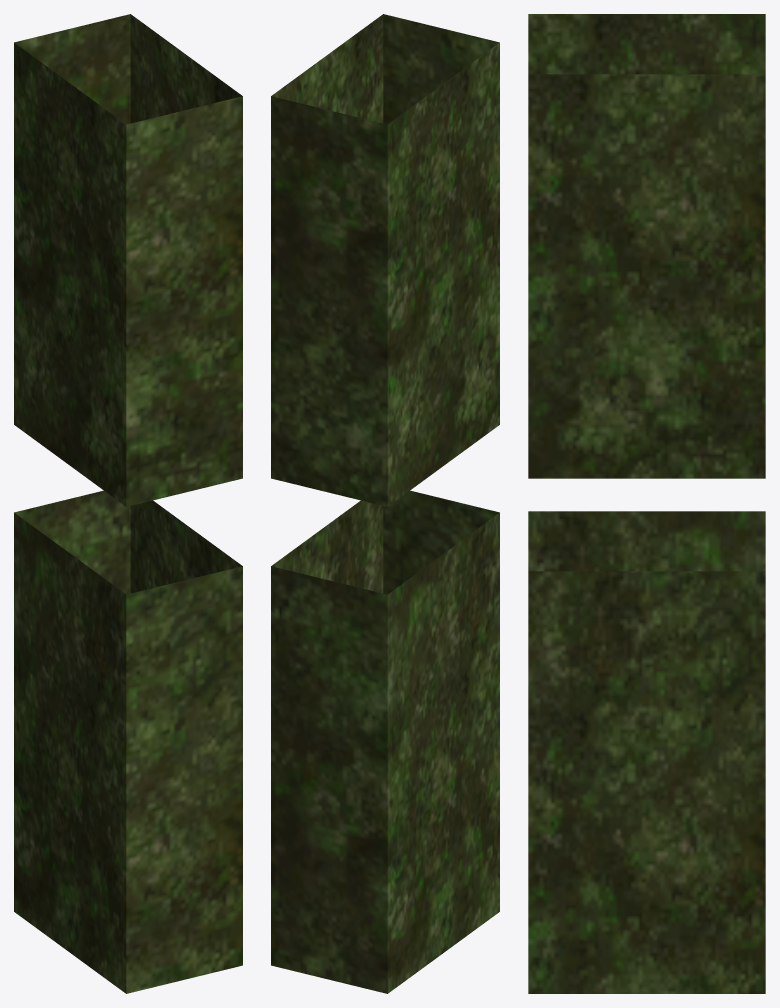
The model's file is OVERHILL_A_01_OBJECT277.fbx.
The picture shows the model from 3 angles, left to right: view 1: azimuth 30°, elevation 25°; view 2: azimuth 150°, elevation 25°; view 3: azimuth 270°, elevation 25°; orthographic projection. The views are drawn at different scales.
Parts seen in each view (by area): view 1: OVERHILL_A_01_OBJECT277; view 2: OVERHILL_A_01_OBJECT277; view 3: OVERHILL_A_01_OBJECT277.
Boxes of the visible parts, <box> form: OVERHILL_A_01_OBJECT277: <box>14,14,242,993</box>; OVERHILL_A_01_OBJECT277: <box>271,14,499,993</box>; OVERHILL_A_01_OBJECT277: <box>528,14,765,993</box>.
Bounding box in the file's own units: 7452 × 53101 × 12431.
Materials: 1 (1 with a texture image).
